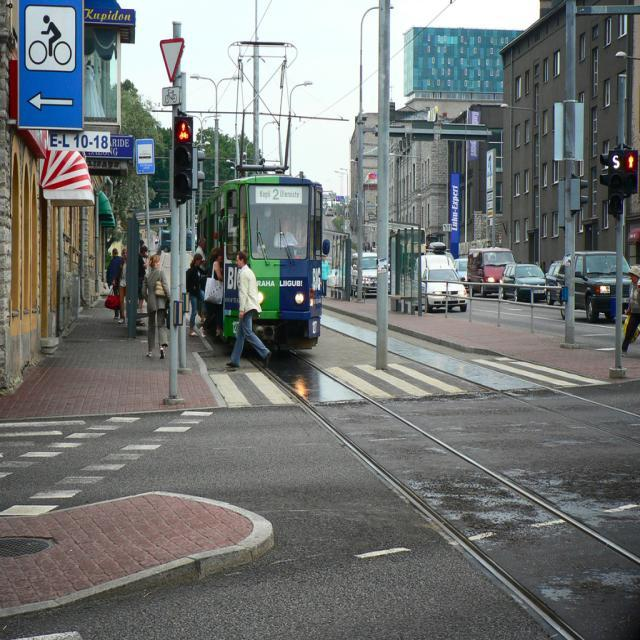road_sign: (16, 0, 85, 124), (159, 38, 185, 83), (135, 139, 155, 175)
traffic light: (172, 113, 192, 203), (624, 149, 638, 193)
